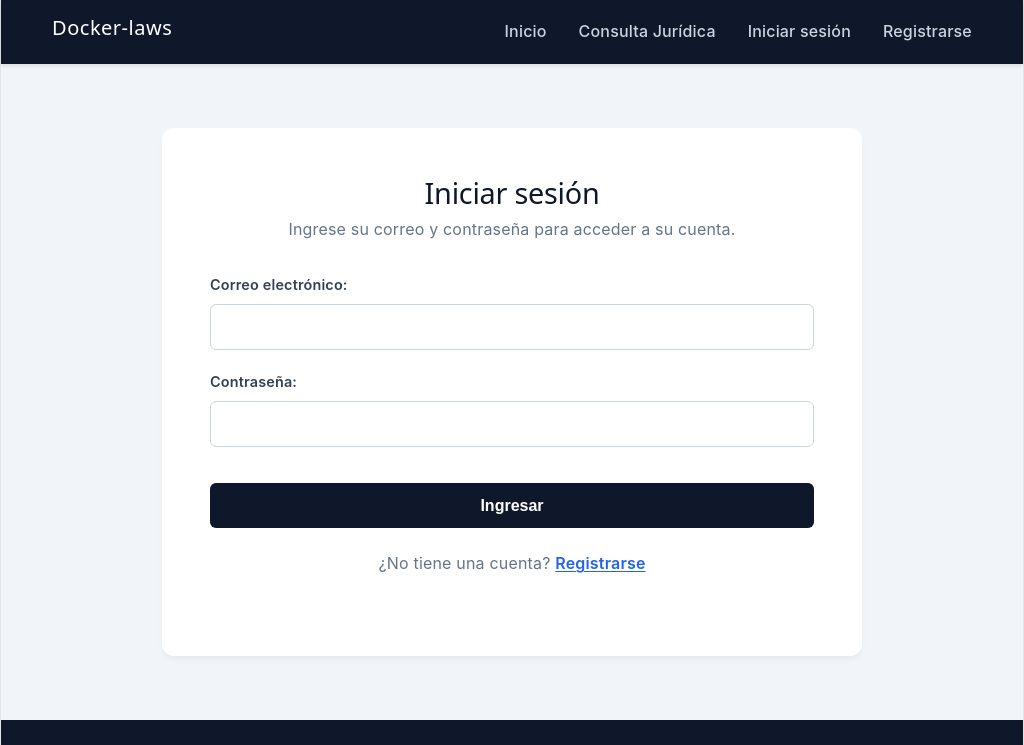
it: inicia sesión y recupera el perfil del servidor al volver a montar la aplicación
The width and height of the screenshot is (1024, 745).
Later steps or results of the test are not shown.
Step 1. Type "cuenta@ejemplo.invalid" into the field labelled "Correo electrónico:" → (512, 327), box [210, 304, 814, 350]
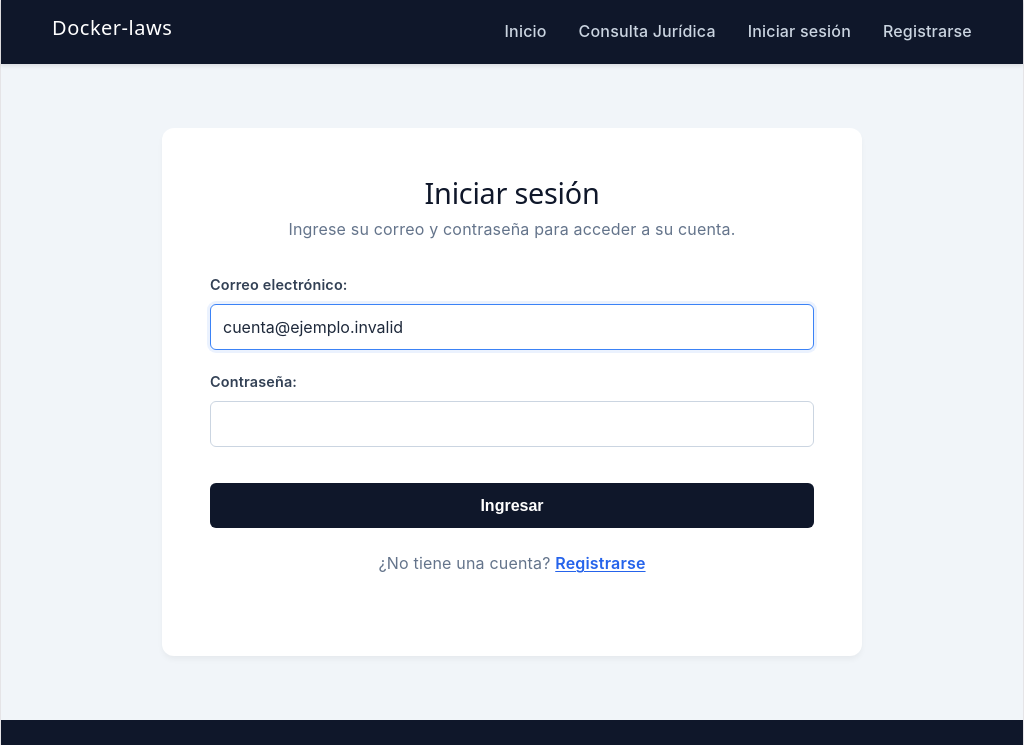
Step 2. Type "ClaveFicticiaDePrueba" into the password field labelled "Contraseña:" → (512, 424), box [210, 401, 814, 447]
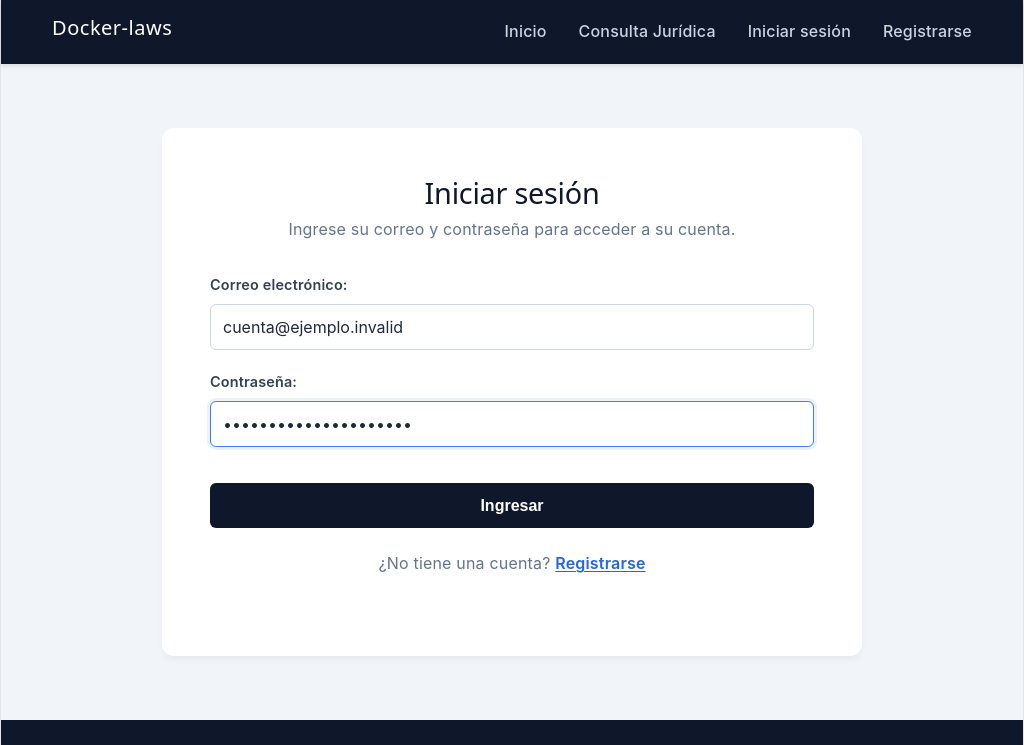
Step 3. Click the button "Ingresar" → (512, 506), box [210, 483, 814, 528]
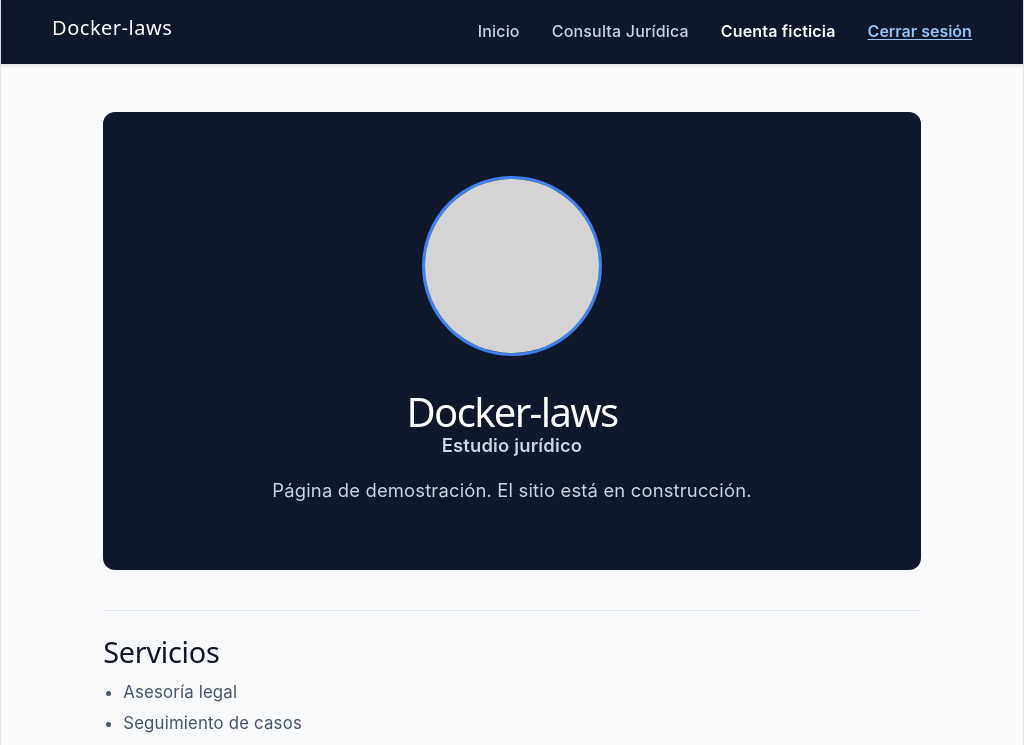
Result: the button "Cerrar sesión" is shown at [868, 20, 972, 43]
